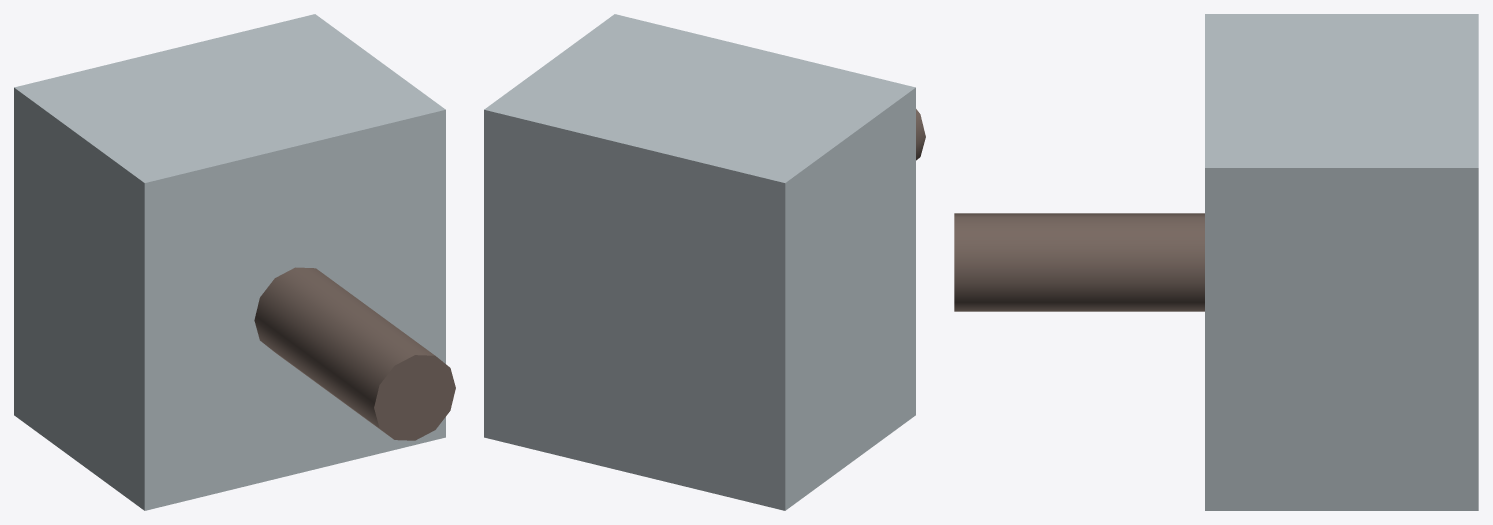
File: perseverance_turret.contact_sensor.glb
The picture shows the model from 3 angles, left to right: view 1: azimuth 30°, elevation 25°; view 2: azimuth 150°, elevation 25°; view 3: azimuth 270°, elevation 25°; orthographic projection. The views are drawn at different scales.
Parts seen in each view (by area): view 1: perseverance_turret.contact_sensor.mesh_Satin_aluminum, perseverance_turret.contact_sensor.mesh_Heat-stained_alloy; view 2: perseverance_turret.contact_sensor.mesh_Satin_aluminum; view 3: perseverance_turret.contact_sensor.mesh_Satin_aluminum, perseverance_turret.contact_sensor.mesh_Heat-stained_alloy.
Boxes of the visible parts, x1=… form: perseverance_turret.contact_sensor.mesh_Satin_aluminum: x1=14, y1=14, x2=445, y2=510; perseverance_turret.contact_sensor.mesh_Heat-stained_alloy: x1=254, y1=267, x2=455, y2=440; perseverance_turret.contact_sensor.mesh_Satin_aluminum: x1=484, y1=14, x2=915, y2=510; perseverance_turret.contact_sensor.mesh_Satin_aluminum: x1=1205, y1=14, x2=1478, y2=510; perseverance_turret.contact_sensor.mesh_Heat-stained_alloy: x1=954, y1=213, x2=1204, y2=311.
Size of the model in its own units: 0.125 by 0.13 by 0.18.
